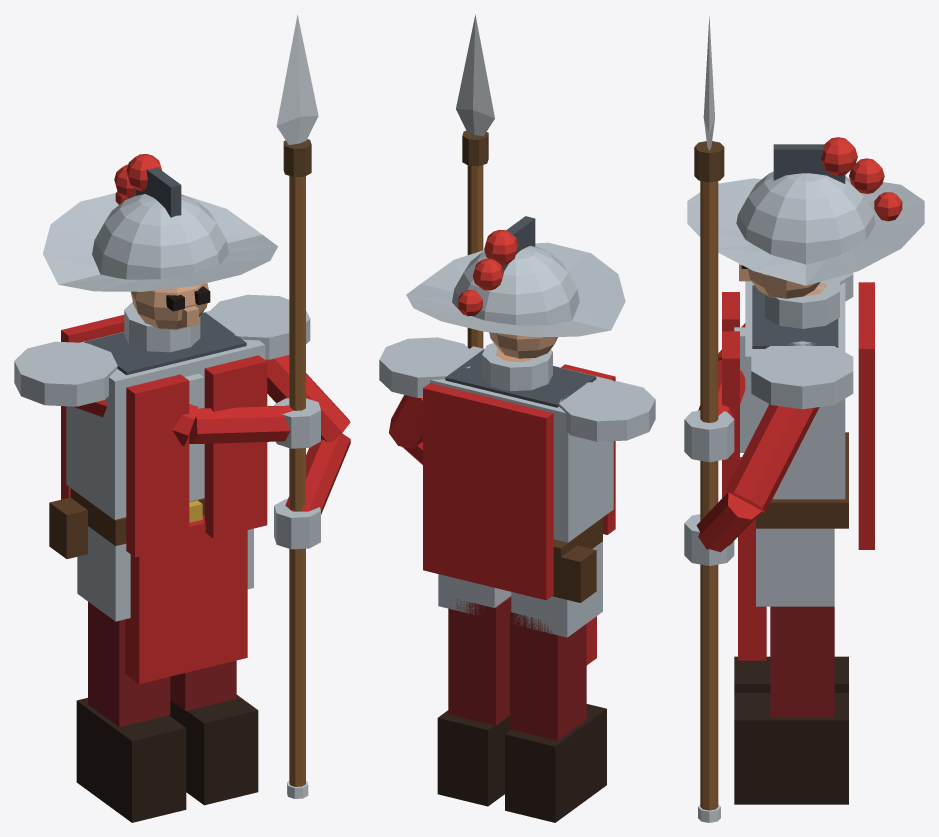
The model's file is soldier_red.glb.
The picture shows the model from 3 angles, left to right: view 1: azimuth 30°, elevation 25°; view 2: azimuth 150°, elevation 25°; view 3: azimuth 270°, elevation 25°; orthographic projection. The views are drawn at different scales.
Visible parts, largest first — view 1: Body, Pike; view 2: Body, Pike; view 3: Body, Pike.
Part boxes in pixels (x1,y1,x2,y2): Body: (14, 154, 350, 822); Pike: (276, 15, 318, 798); Body: (379, 216, 655, 822); Pike: (456, 14, 494, 348); Body: (684, 137, 924, 804); Pike: (694, 15, 724, 822).
Size of the model in its own units: 1.01 by 2.48 by 0.6715.
